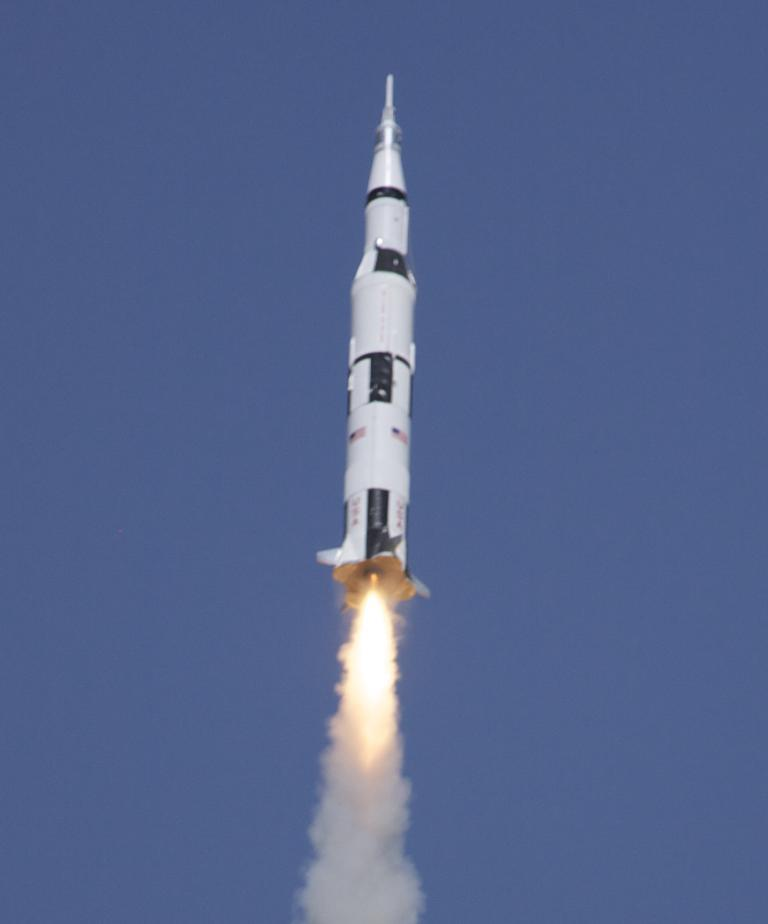Missile: (312, 70, 433, 601)
